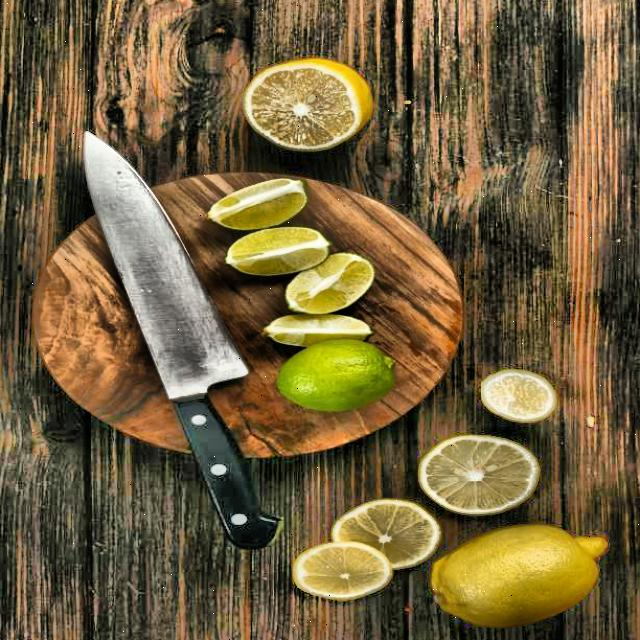knife: (70, 130, 280, 552)
